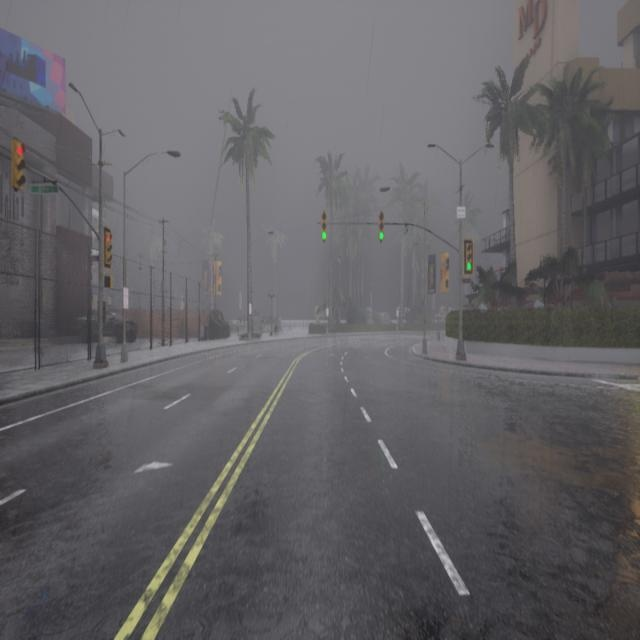bien_chi_dan: (10, 136, 27, 195), (104, 226, 112, 270), (463, 240, 473, 275), (321, 210, 328, 248), (377, 211, 385, 243), (13, 138, 25, 158), (105, 231, 112, 244), (321, 229, 328, 242), (378, 230, 385, 242), (465, 260, 472, 272)
